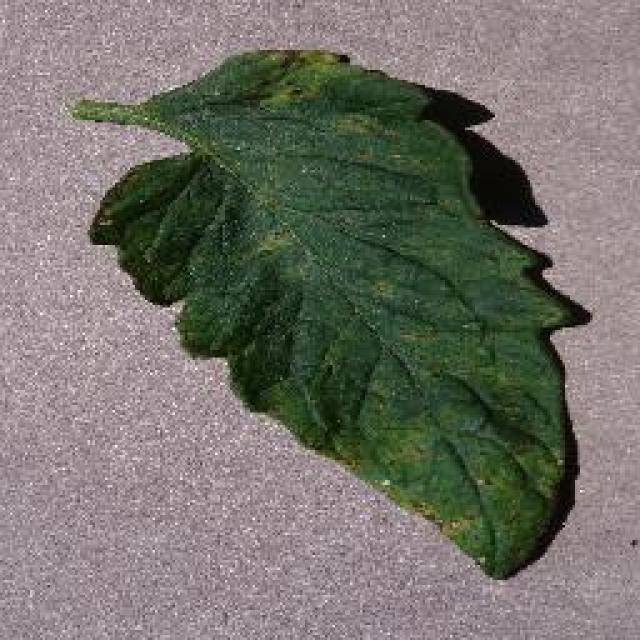Tomato___Septoria_leaf_spot: (72, 50, 572, 575)
